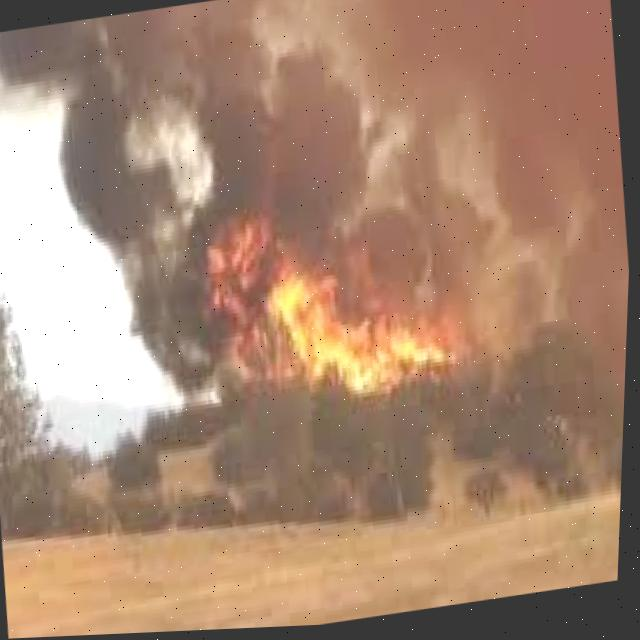fire: (209, 214, 425, 418)
smoke: (66, 0, 624, 261), (418, 196, 631, 385), (122, 244, 221, 401)
